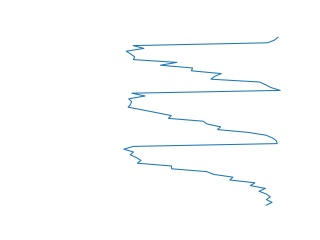distributaryMouthBar: (123, 35, 283, 206)
